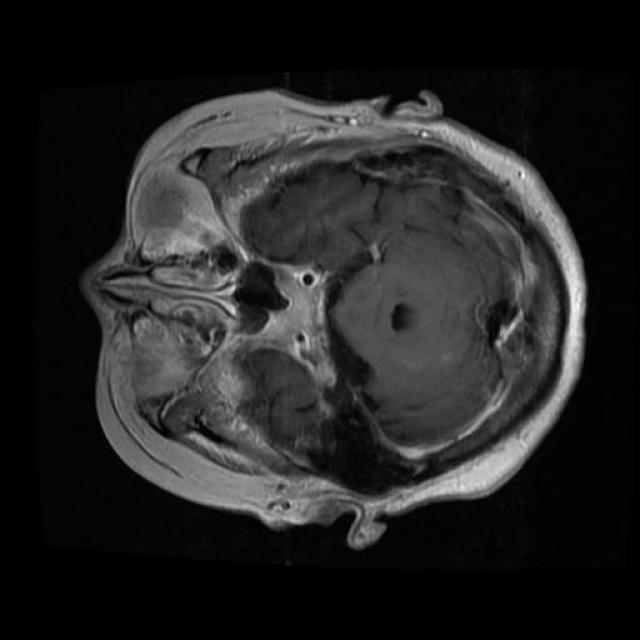Pituitary: (276, 268, 325, 358)
